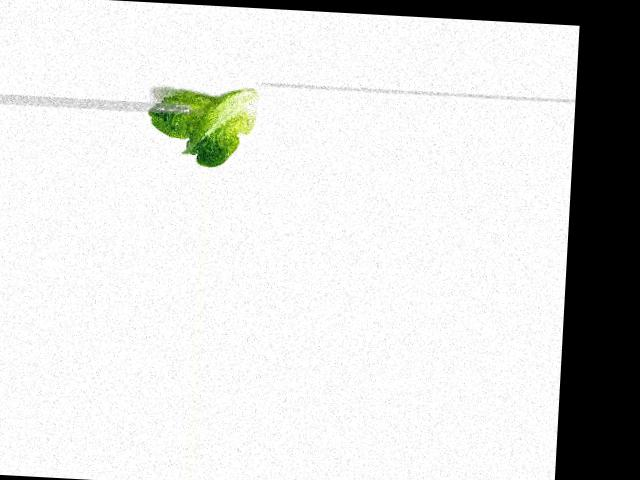lettuce: (142, 87, 262, 170)
